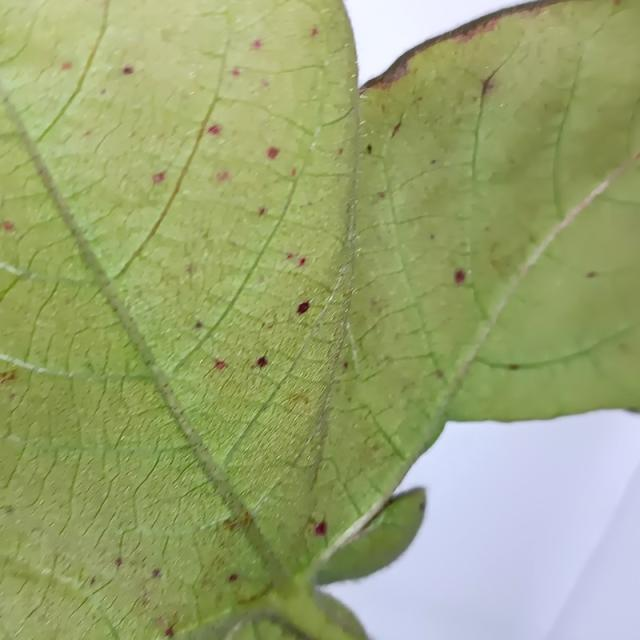Bacterial_Blight: (316, 489, 427, 585), (367, 57, 413, 92), (478, 74, 497, 99), (452, 267, 467, 289), (288, 393, 309, 408), (483, 16, 501, 31), (253, 355, 270, 370), (296, 300, 310, 315), (391, 119, 402, 138), (314, 520, 327, 536), (226, 517, 240, 531), (3, 370, 18, 383), (152, 171, 166, 184), (266, 146, 280, 159), (206, 124, 221, 136), (240, 511, 252, 526), (213, 359, 227, 370), (3, 220, 15, 232), (156, 616, 166, 630), (217, 171, 229, 182), (620, 342, 632, 353), (122, 65, 134, 75), (251, 39, 263, 49), (165, 625, 175, 636), (231, 67, 241, 77), (151, 569, 161, 579), (61, 62, 72, 71), (228, 573, 238, 582), (4, 504, 14, 513), (185, 264, 193, 275), (114, 556, 122, 567), (370, 297, 378, 308), (418, 500, 425, 512), (261, 78, 270, 87), (434, 370, 443, 379), (258, 206, 266, 216), (310, 27, 318, 37), (587, 271, 598, 278), (194, 321, 203, 329), (89, 577, 96, 586), (509, 364, 519, 370), (366, 144, 372, 154), (299, 258, 306, 266), (286, 253, 294, 260), (378, 192, 386, 199), (343, 361, 349, 370), (290, 169, 296, 177), (614, 0, 622, 6), (636, 150, 640, 162), (429, 233, 435, 240), (100, 88, 106, 95), (338, 148, 343, 156), (430, 159, 436, 165)
Cotton: (0, 0, 639, 639)
